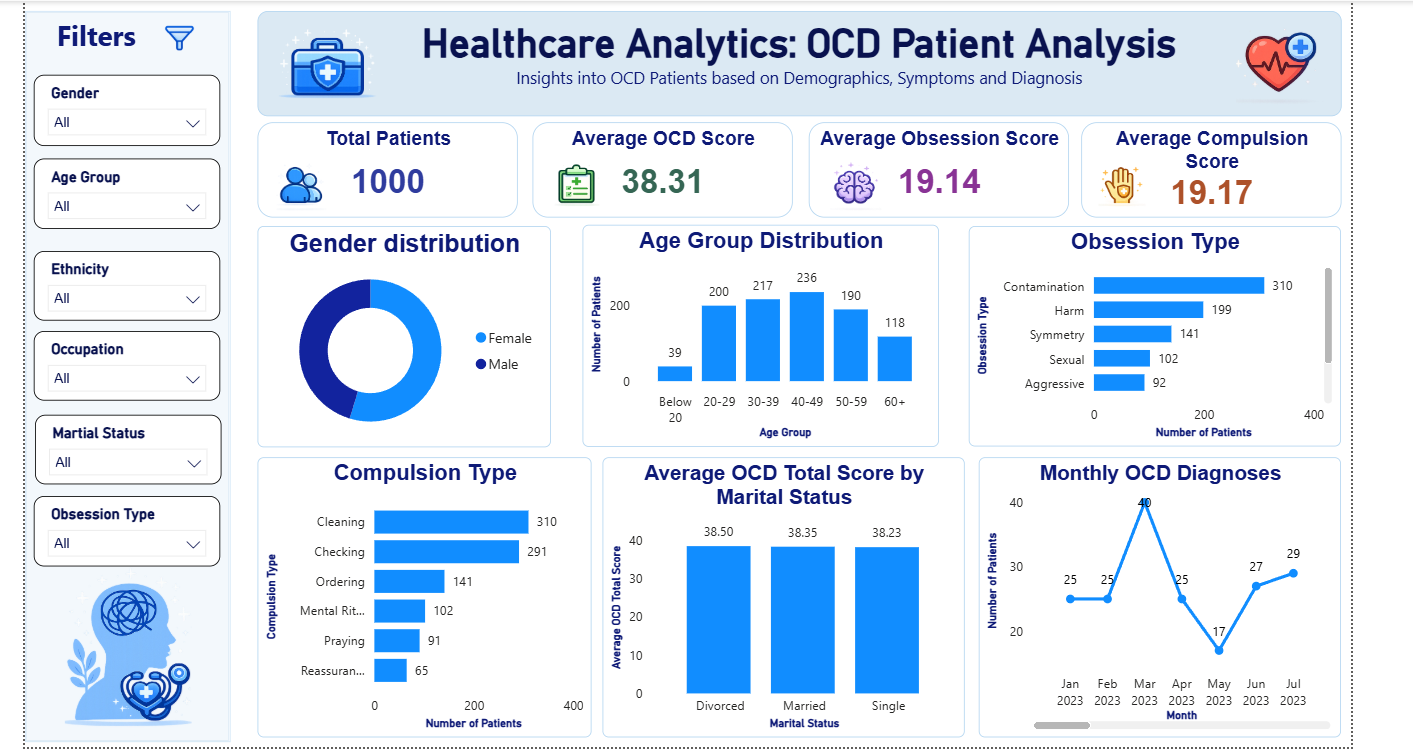

The dashboard page shown, as its layout file describes it:
{"tool":"powerbi","page":{"name":"Page 1","canvas":[1280,720],"ordinal":0},"visuals":[{"type":"shape","box":[0,9.7,198.2,705.9],"z":0},{"type":"textbox","box":[225,10,1046.1,101.2],"z":1000},{"type":"donutChart","title":"Gender distribution","fields":{"Category":["public ocd_patient_dataset.gender"],"Y":["CountNonNull(public ocd_patient_dataset.Patient ID)"]},"box":[224.8,217.6,282.8,213.9],"z":2000},{"type":"clusteredColumnChart","title":"Age Group Distribution","fields":{"Category":["public ocd_patient_dataset.Age Group"],"Y":["CountNonNull(public ocd_patient_dataset.Patient ID)"]},"box":[537.9,217.6,344.5,213.9],"z":3000},{"type":"clusteredBarChart","title":"Obsession Type","fields":{"Category":["public ocd_patient_dataset.Obsession Type"],"Y":["CountNonNull(public ocd_patient_dataset.Patient ID)"]},"box":[911.4,217.6,359,213],"z":4000},{"type":"clusteredBarChart","title":"Compulsion Type","fields":{"Y":["CountNonNull(public ocd_patient_dataset.Patient ID)"],"Category":["public ocd_patient_dataset.Compulsion Type"]},"box":[224.8,440,322.7,270.7],"z":5000},{"type":"clusteredColumnChart","title":"Average OCD Total Score by Marital Status","fields":{"Category":["public ocd_patient_dataset.Marital Status"],"Y":["Avg(public ocd_patient_dataset.Y-BOCS Total Score)"]},"box":[557.2,440,349.3,270.7],"z":6000},{"type":"lineChart","title":"Monthly OCD Diagnoses","fields":{"Y":["CountNonNull(public ocd_patient_dataset.Patient ID)"],"Category":["public ocd_patient_dataset.Month Year"]},"box":[921,440,349.3,270.7],"z":7000},{"type":"slicer","fields":{"Values":["public ocd_patient_dataset.gender"]},"box":[8.7,71.2,180,68.7],"z":8000},{"type":"slicer","fields":{"Values":["public ocd_patient_dataset.Age Group"]},"box":[8.7,152.5,180,68],"z":9000},{"type":"slicer","fields":{"Values":["public ocd_patient_dataset.occupation"]},"box":[8.7,318.7,180,67.5],"z":10000},{"type":"slicer","fields":{"Values":["public ocd_patient_dataset.ethnicity"]},"box":[8.7,241.2,180,67.5],"z":11000},{"type":"slicer","fields":{"Values":["public ocd_patient_dataset.Obsession Type"]},"box":[8.5,477.4,180.1,67.7],"z":12000},{"type":"slicer","fields":{"Values":["public ocd_patient_dataset.Marital Status"]},"box":[10,399.9,180,67.5],"z":13000},{"type":"textbox","box":[11.2,10,178.7,68.7],"z":14000},{"type":"card","title":"Total Patients","fields":{"Values":["public ocd_patient_dataset.Total Patients"]},"box":[224.8,117.2,251.4,91.9],"z":15000},{"type":"card","title":"Average OCD Score","fields":{"Values":["public ocd_patient_dataset.Average OCD Score"]},"box":[489.5,117.2,251.4,91.9],"z":16000},{"type":"card","title":"Average Obsession Score","fields":{"Values":["public ocd_patient_dataset.Average Obsession Score"]},"box":[756.6,117.2,251.4,91.9],"z":17000},{"type":"card","title":"Average Compulsion Score","fields":{"Values":["public ocd_patient_dataset.Average Compulsion Score"]},"box":[1018.9,117.2,251.4,91.9],"z":18000},{"type":"image","box":[241.7,151.1,50.8,52],"z":19000},{"type":"image","box":[507.6,152.3,49.6,50.8],"z":20000},{"type":"image","box":[777.2,152.3,49.6,50.8],"z":21000},{"type":"image","box":[1032.2,152.3,52,50.8],"z":22000},{"type":"image","box":[1168.8,14.5,84.6,90.7],"z":23000},{"type":"image","box":[16.9,545.1,165.6,165.6],"z":24000},{"type":"image","box":[245.4,15.7,94.3,90.7],"z":25000},{"type":"image","box":[128.1,9.7,42.3,54.4],"z":26000}]}

Visuals, with their boxes on the page's 1280x720 design canvas (x1, y1, x2, y2). These are canvas units, not pixel positions in the 1413x756 screenshot, which may show the page scaled, cropped or inside an application window:
shape: 0:10:198:716
textbox: 225:10:1271:111
"Gender distribution" donutChart: 225:218:508:432
"Age Group Distribution" clusteredColumnChart: 538:218:882:432
"Obsession Type" clusteredBarChart: 911:218:1270:431
"Compulsion Type" clusteredBarChart: 225:440:548:711
"Average OCD Total Score by Marital Status" clusteredColumnChart: 557:440:906:711
"Monthly OCD Diagnoses" lineChart: 921:440:1270:711
slicer - public ocd_patient_dataset.gender: 9:71:189:140
slicer - public ocd_patient_dataset.Age Group: 9:152:189:220
slicer - public ocd_patient_dataset.occupation: 9:319:189:386
slicer - public ocd_patient_dataset.ethnicity: 9:241:189:309
slicer - public ocd_patient_dataset.Obsession Type: 8:477:189:545
slicer - public ocd_patient_dataset.Marital Status: 10:400:190:467
textbox: 11:10:190:79
"Total Patients" card: 225:117:476:209
"Average OCD Score" card: 490:117:741:209
"Average Obsession Score" card: 757:117:1008:209
"Average Compulsion Score" card: 1019:117:1270:209
image: 242:151:292:203
image: 508:152:557:203
image: 777:152:827:203
image: 1032:152:1084:203
image: 1169:14:1253:105
image: 17:545:182:711
image: 245:16:340:106
image: 128:10:170:64
